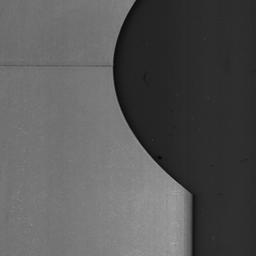Crescent gap: (113, 0, 189, 192)
